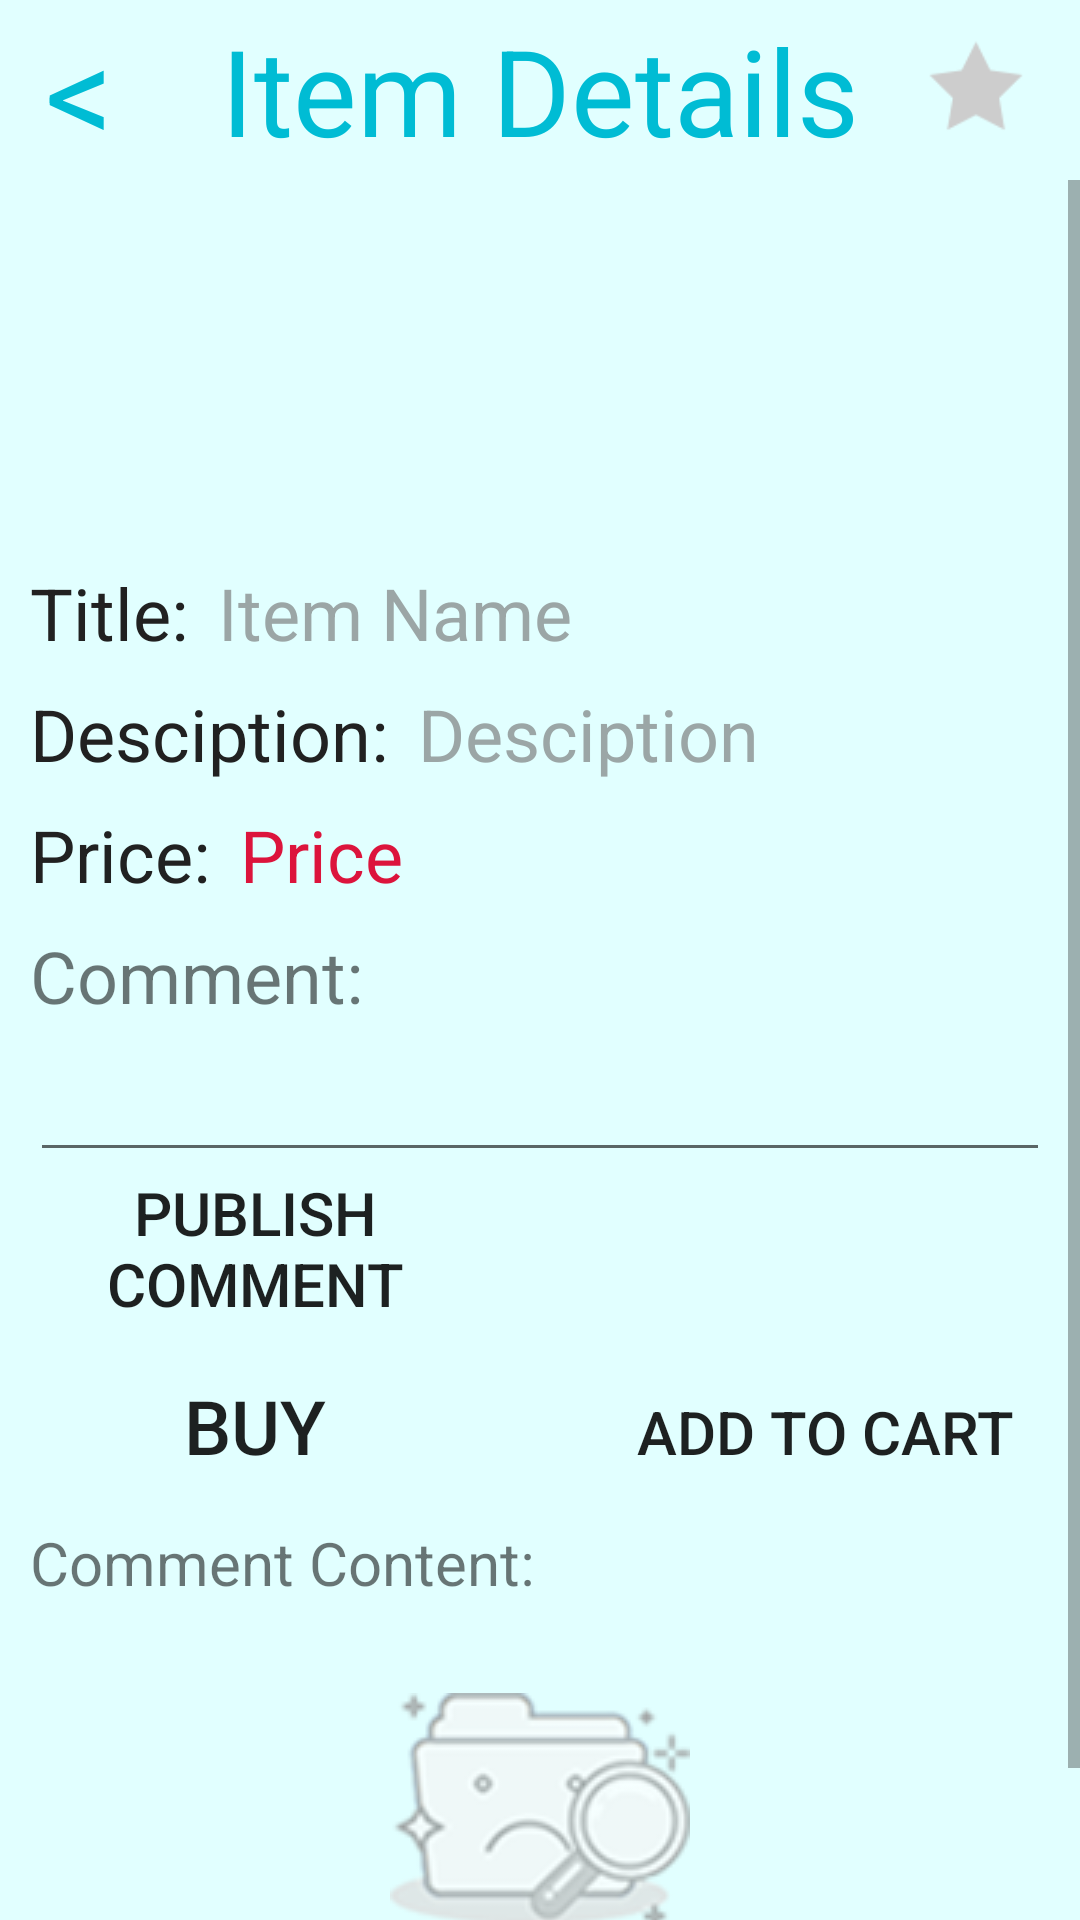

Locate icon controls on the screen. Image size 1080 × 1920, boxes as (x1, y1, x2, y2).
collect false: (931, 43, 1021, 129)
